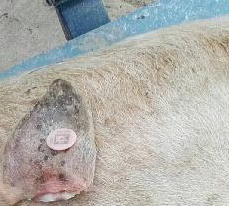text: (37, 117, 87, 162)
